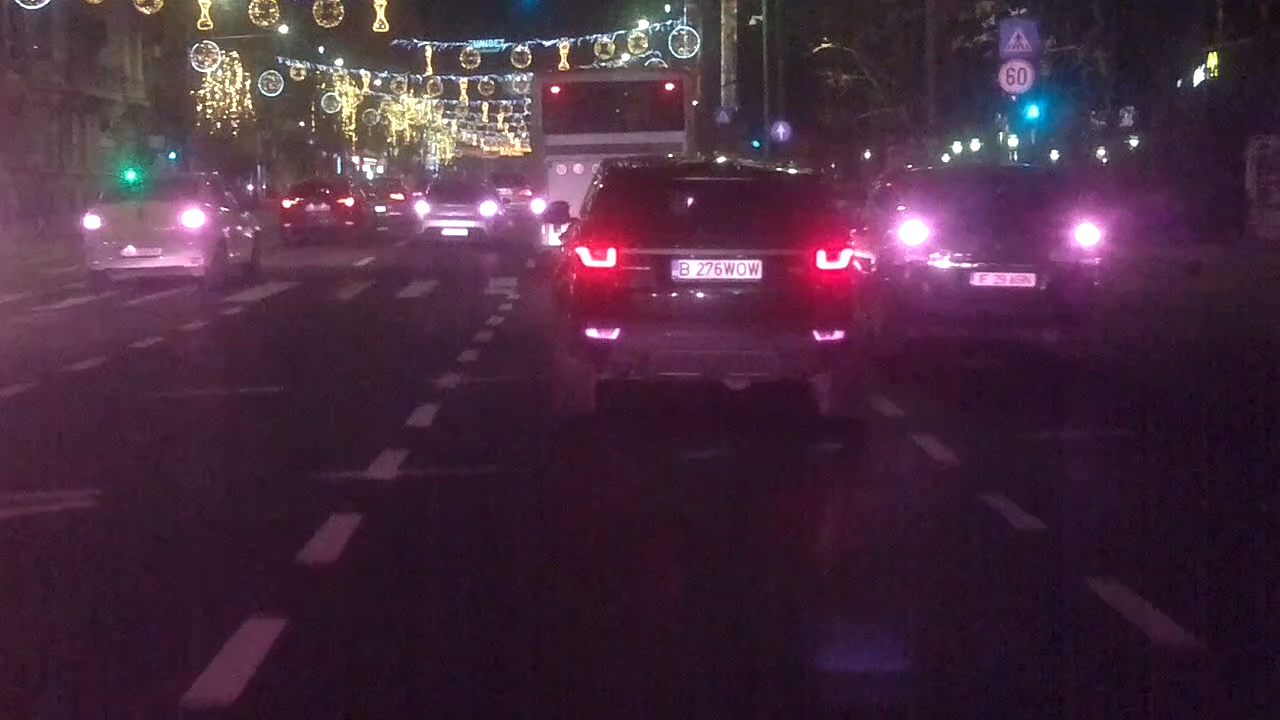license-plate: (666, 254, 767, 283)
